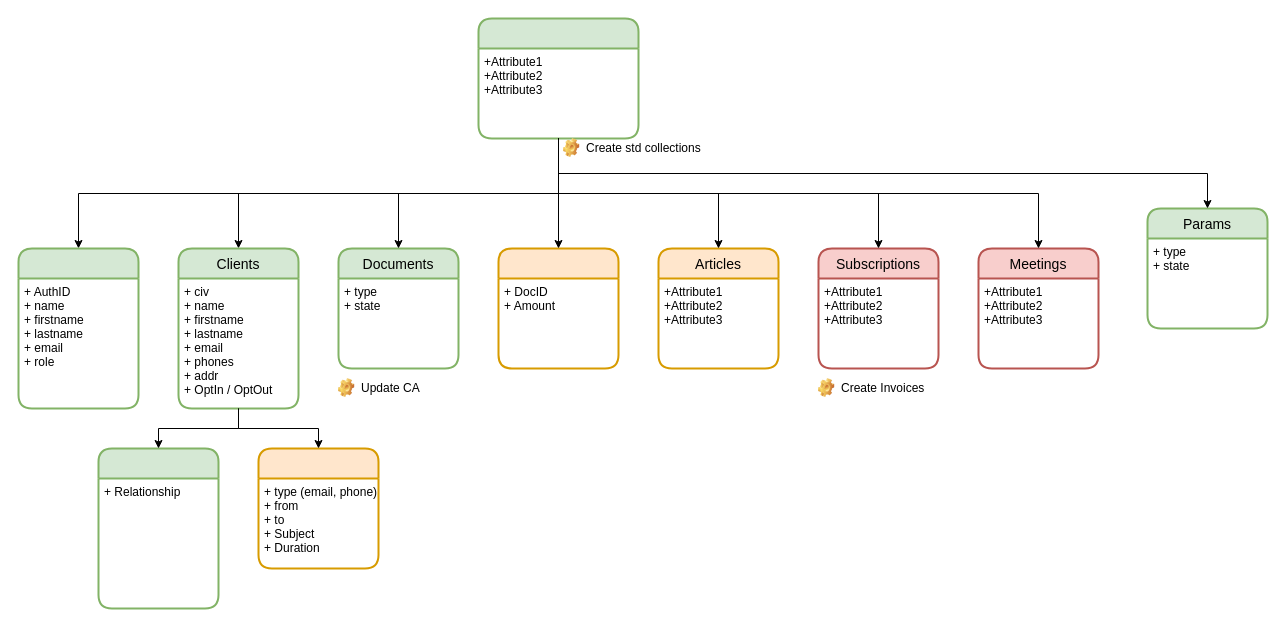
This 1285x626 diagram has some shape labels left out. The box of each missing label's shape, as (x1, y1, x2, y2) in pixels:
Activities: (257, 447, 379, 569)
Companies: (477, 17, 639, 139)
Contacts: (97, 447, 219, 609)
Transactions: (497, 247, 619, 369)
Users: (17, 247, 139, 409)
